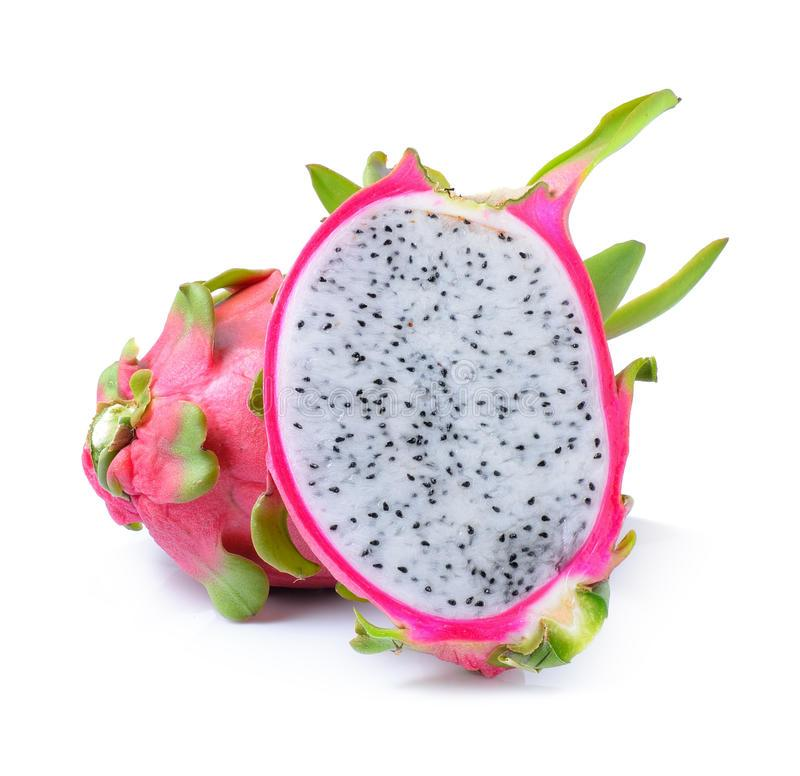dragon-fruit: (251, 158, 668, 670)
